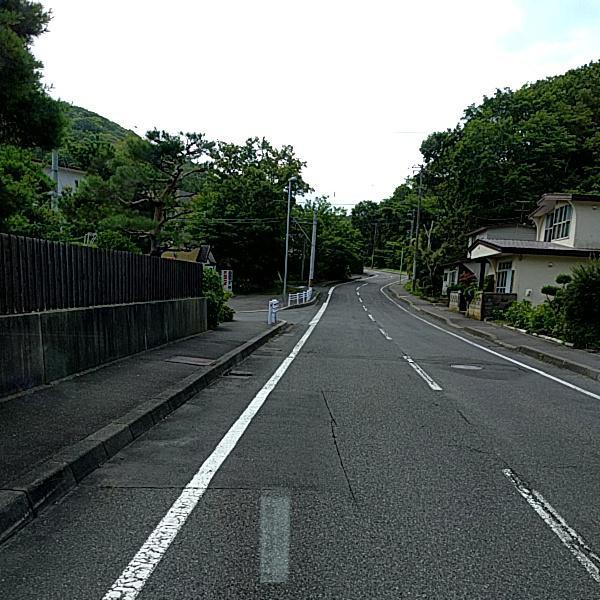D44: (108, 449, 223, 599), (501, 466, 596, 584)
D50: (446, 357, 479, 373)
